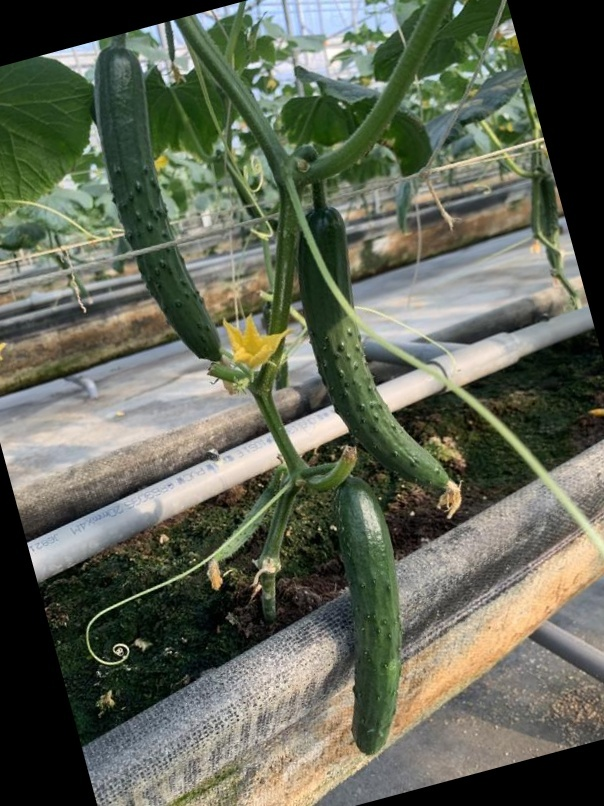mature: (298, 207, 459, 492), (88, 45, 223, 369), (335, 478, 406, 757)
